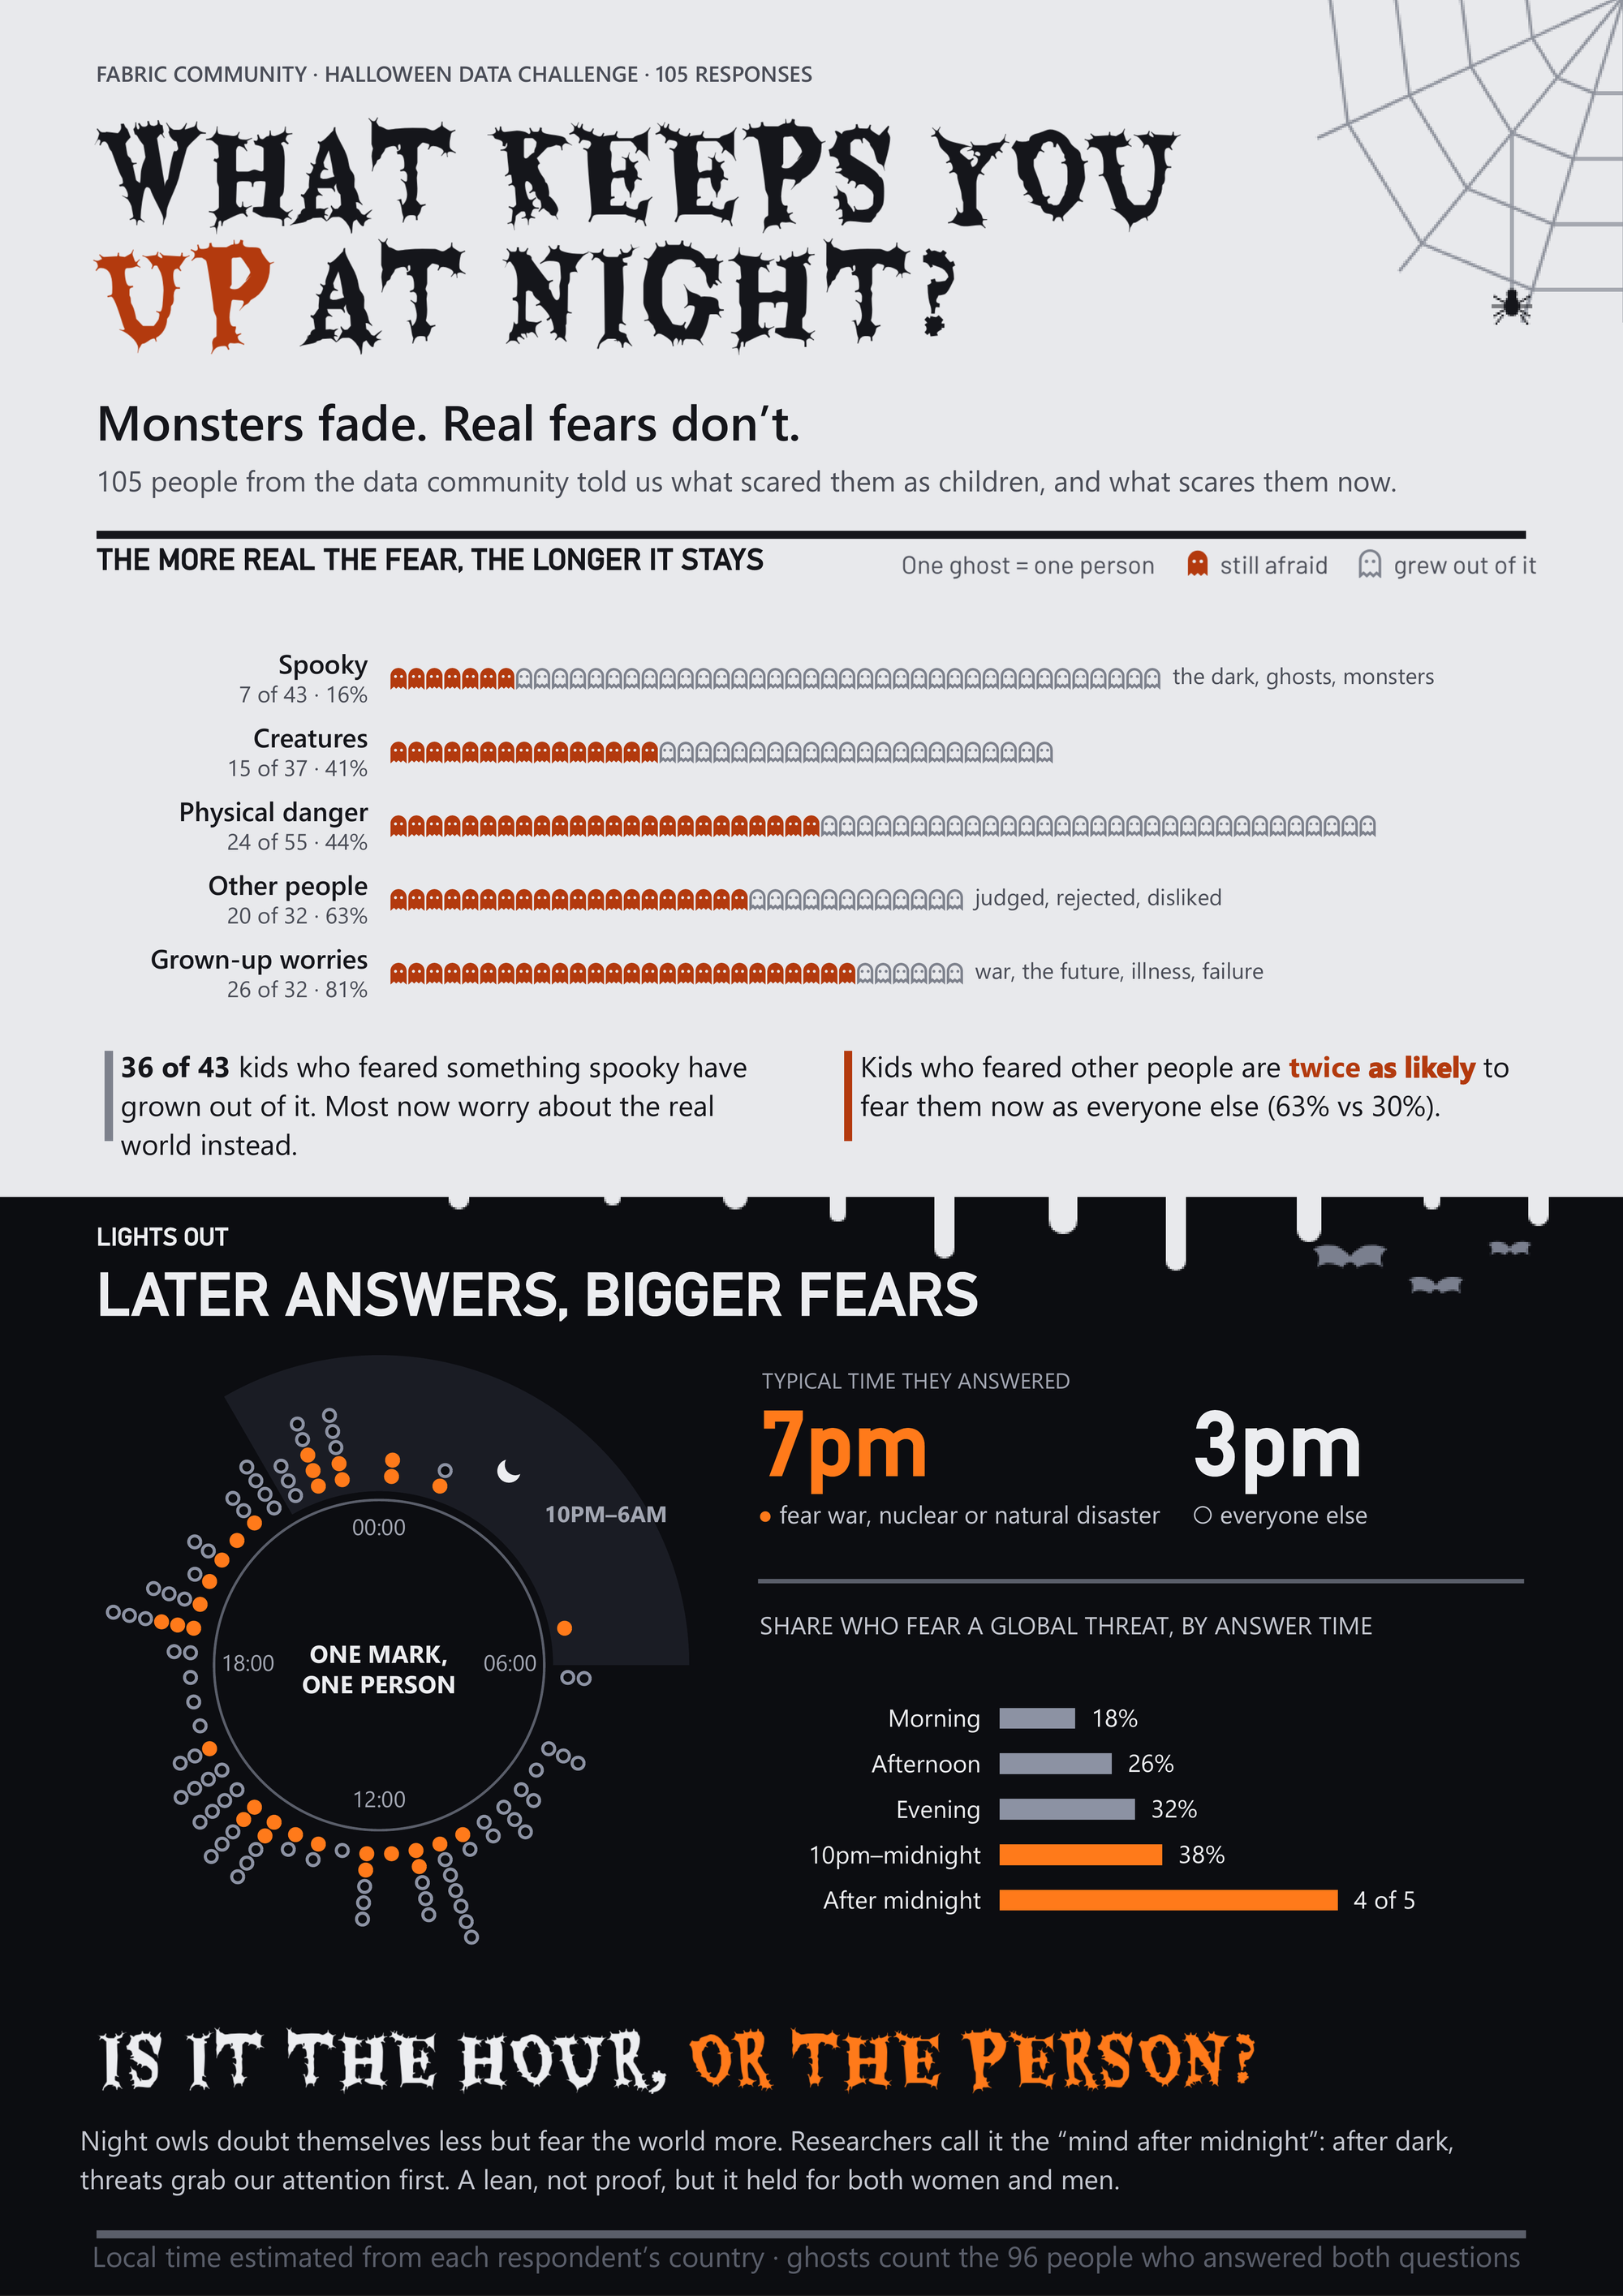

The dashboard page shown, as its layout file describes it:
{"tool":"powerbi","page":{"name":"Poster","canvas":[794,1123],"ordinal":0},"visuals":[{"type":"deneb7E15AEF80B9E4D4F8E12924291ECE89A","title":"Ghost Chart","fields":{"dataset":["FearRetention.ResponseKey","FearRetention.ThemeLabel","FearRetention.ThemeOrder","FearRetention.HadAsChild","FearRetention.HasNow","FearRetention.Examples"]},"box":[48,300,698,210],"z":0},{"type":"textbox","title":"Kicker","box":[47.5,26.2,560,23.8],"z":1000},{"type":"image","title":"Ghost Legend","box":[438.8,266.2,315,20],"z":2000},{"type":"image","title":"Title","box":[46,50,539,133],"z":3000},{"type":"textbox","title":"Subtitle","box":[48,190,600,34],"z":4000},{"type":"textbox","box":[48,226,698,22],"z":5000},{"type":"shape","title":"Header Line","box":[48,256,698,12],"z":6000},{"type":"textbox","title":"The more real the fear..","box":[48,264,420,22],"z":7000},{"type":"shape","box":[48,514,12,44],"z":8000},{"type":"shape","box":[409,514,12,44],"z":9000},{"type":"textbox","box":[60,512,325,62.5],"z":10000},{"type":"textbox","box":[421,512,325,50],"z":11000},{"type":"textbox","title":"Lights Out","box":[48,594,96,20],"z":12000},{"type":"deneb7E15AEF80B9E4D4F8E12924291ECE89A","title":"Clock","fields":{"dataset":["Respondents.ResponseKey","Respondents.LocalHourDecimal","Respondents.IsGlobalThreat","Respondents.countryNow","Respondents.LocalTimeText","Respondents.CurrentFearsText"]},"box":[26,654,320,320],"z":13000},{"type":"textbox","title":"Night Heading","box":[48,616,560,36],"z":14000},{"type":"textbox","title":"Typical Time..","box":[372.9,664,374.3,20],"z":15000},{"type":"textbox","title":"7pm block","box":[371.4,681.4,201.4,92.9],"z":16000},{"type":"image","title":"Is It the Hour, Or The Person?","box":[47,984,574,47],"z":17000},{"type":"textbox","title":"Theory","box":[40,1036,698,46],"z":18000},{"type":"shape","title":"Footer Line","box":[48,1086,698,12],"z":19000},{"type":"textbox","title":"Footer","box":[45.7,1093,700,28.6],"z":20000},{"type":"clusteredBarChart","fields":{"Category":["Respondents.HourBand"],"Y":["_Measures.Global Threat %"]},"box":[372,804,360,155.7],"z":21000},{"type":"shape","box":[371.4,767.1,374,12],"z":22000},{"type":"textbox","title":"3pm block","box":[582.9,681.4,188.6,88.6],"z":23000},{"type":"textbox","box":[372,784,374.3,30],"z":24000}]}

Visuals, with their boxes in screenshot pixels (x1, y1, x2, y2), scaled from the page's 794x1123 canvas onto the 1623x2296 screenshot:
"Ghost Chart" deneb7E15AEF80B9E4D4F8E12924291ECE89A: 98, 613, 1525, 1043
"Kicker" textbox: 97, 54, 1242, 102
"Ghost Legend" image: 897, 544, 1541, 585
"Title" image: 94, 102, 1196, 374
"Subtitle" textbox: 98, 389, 1324, 458
textbox: 98, 462, 1525, 507
"Header Line" shape: 98, 523, 1525, 548
"The more real the fear.." textbox: 98, 540, 957, 585
shape: 98, 1051, 123, 1141
shape: 836, 1051, 860, 1141
textbox: 123, 1047, 787, 1175
textbox: 860, 1047, 1525, 1149
"Lights Out" textbox: 98, 1215, 295, 1255
"Clock" deneb7E15AEF80B9E4D4F8E12924291ECE89A: 53, 1337, 708, 1992
"Night Heading" textbox: 98, 1259, 1242, 1333
"Typical Time.." textbox: 762, 1357, 1527, 1399
"7pm block" textbox: 760, 1393, 1171, 1583
"Is It the Hour, Or The Person?" image: 96, 2012, 1269, 2108
"Theory" textbox: 82, 2118, 1509, 2212
"Footer Line" shape: 98, 2221, 1525, 2245
"Footer" textbox: 93, 2234, 1524, 2293
clusteredBarChart - Respondents.HourBand x _Measures.Global Threat %: 760, 1644, 1496, 1962
shape: 760, 1568, 1524, 1593
"3pm block" textbox: 1191, 1393, 1577, 1574
textbox: 760, 1603, 1526, 1664
